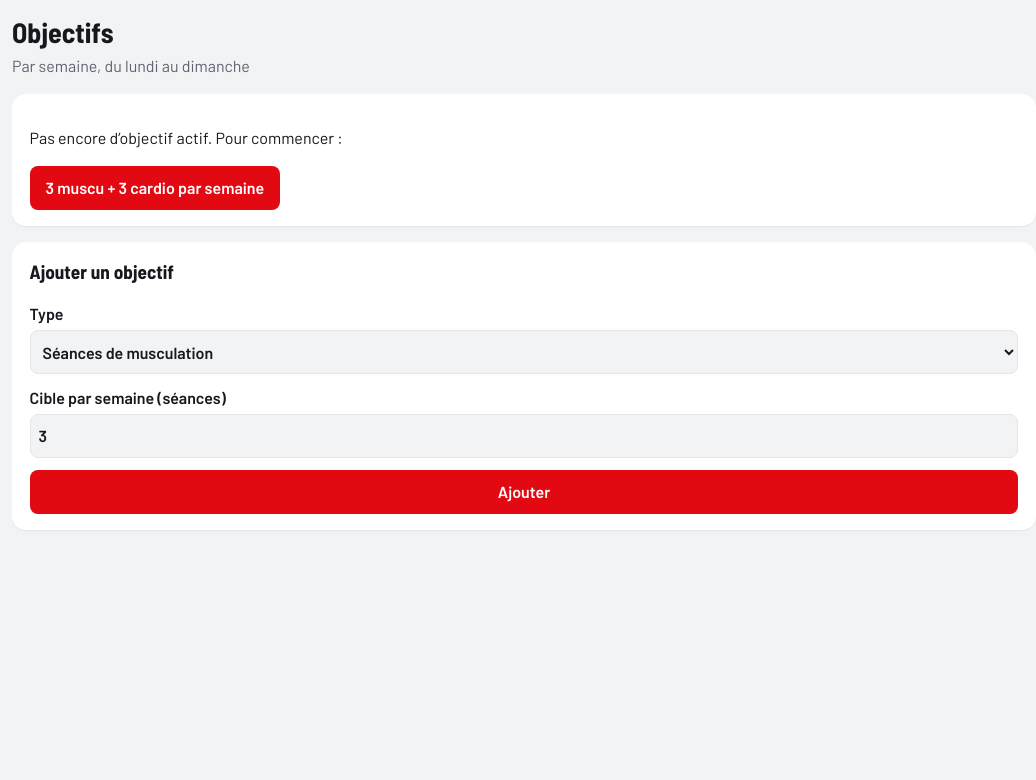
it: GoalsPage › creates "3 muscu + 3 cardio" in one tap
What coordinates should you click on to do the following:
click the button "3 muscu + 3 cardio par semaine"
I would click on:
 (155, 188)
Its box is 30,166 -> 280,210.
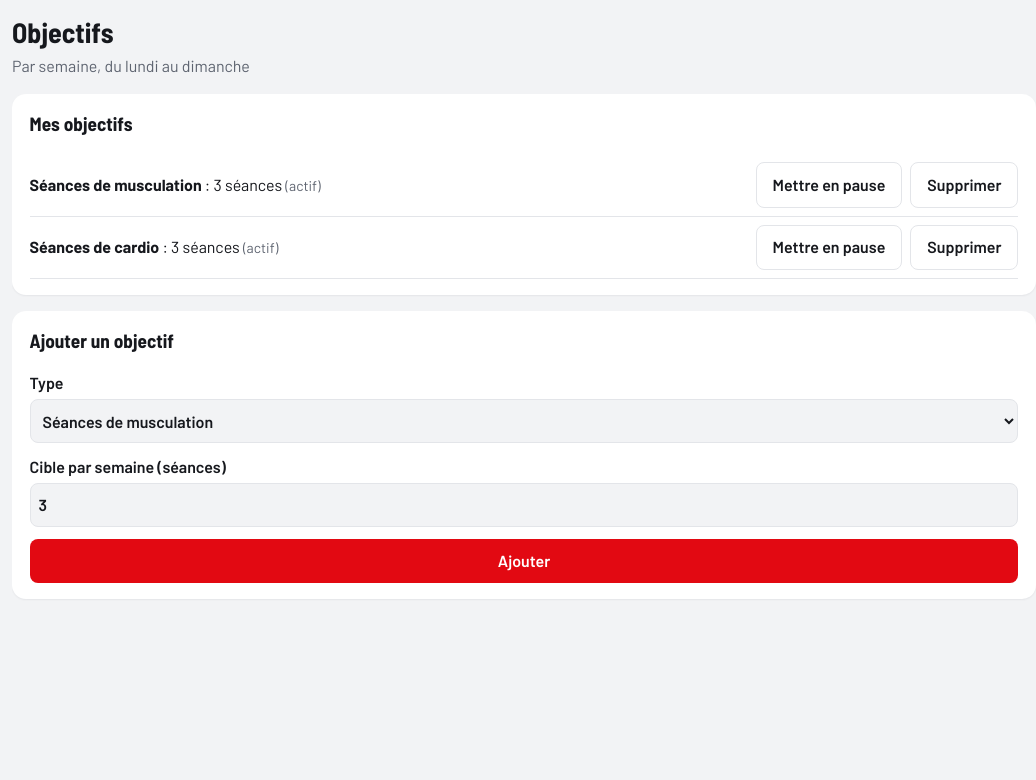
Check: the list shows "Séances de musculation : 3 séances", box 30,154 -> 1018,279
Check: the list shows "Séances de cardio : 3 séances", box 30,154 -> 1018,279
Check: the button "3 muscu" is gone
